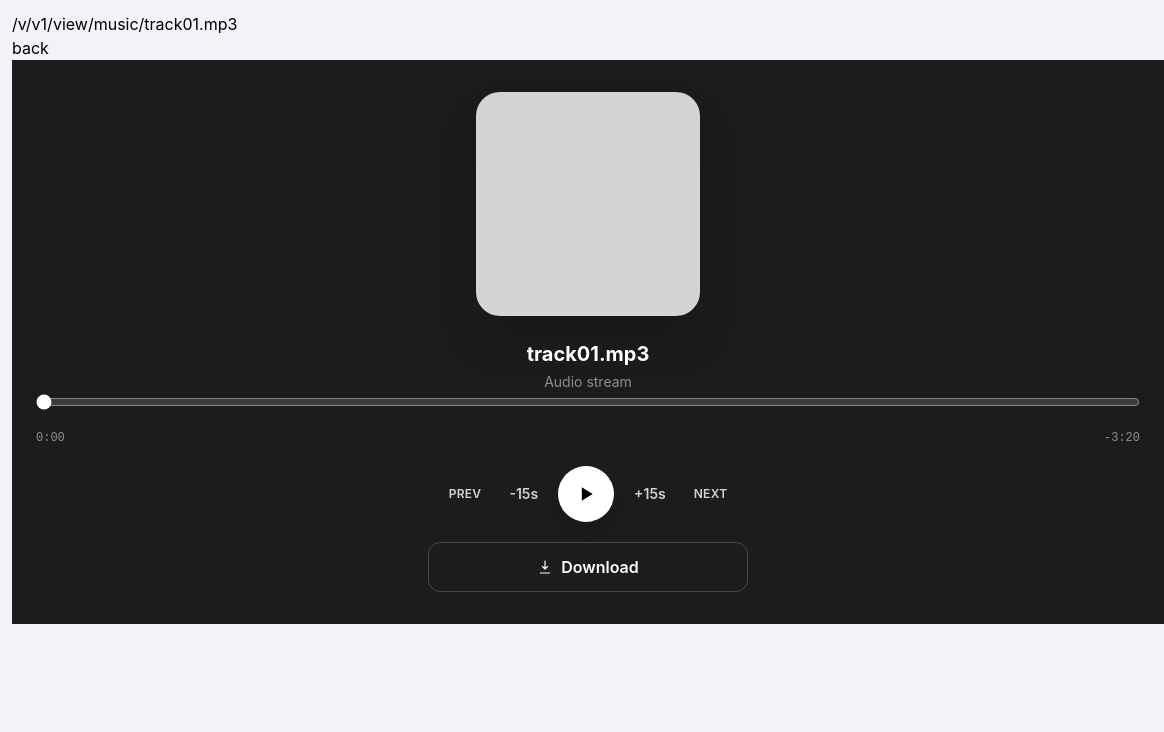
Test case: AudioPlayerPage › seeks when the scrubber moves
Set the slider with test id "audio-seek" to "100": (588, 402) [36,394,1140,410]
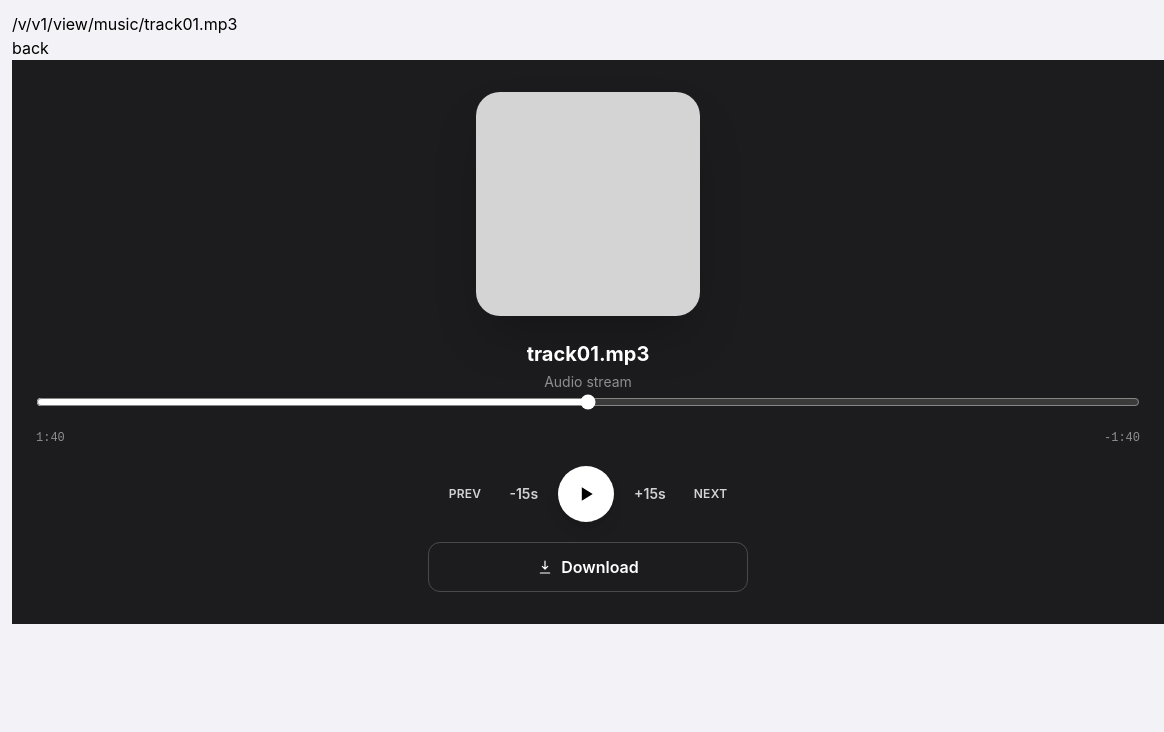
Expected: the text with test id "audio-elapsed" reads "1:40", [36,431,65,445]
